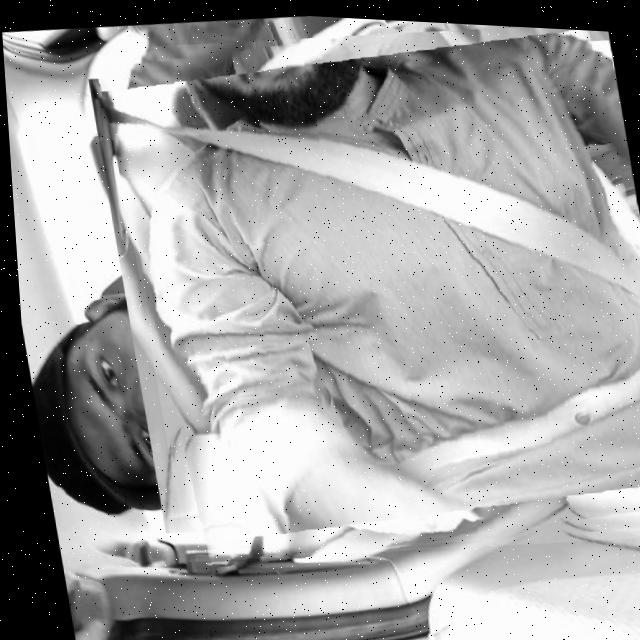seatbelt: (96, 4, 640, 580)
